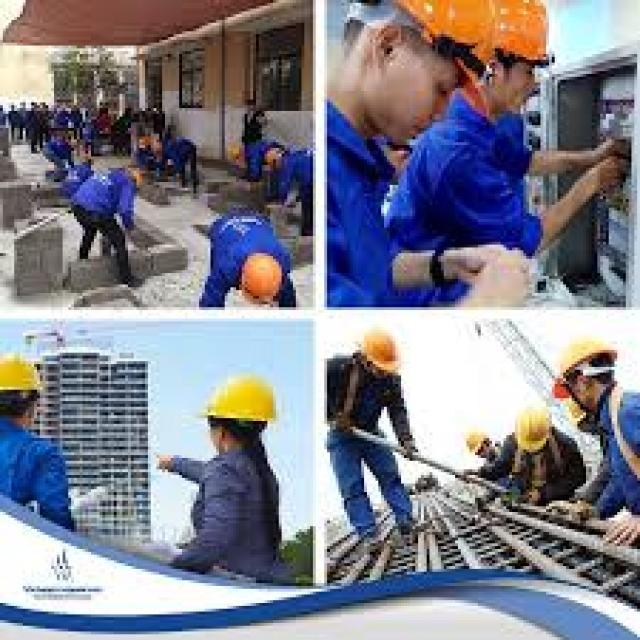reflective_jacket: (589, 384, 639, 486)
safety_helmet: (358, 1, 564, 74), (198, 367, 282, 427), (549, 324, 623, 387), (350, 316, 412, 378), (505, 394, 559, 454), (0, 347, 48, 404), (238, 252, 286, 307), (455, 420, 495, 458)
